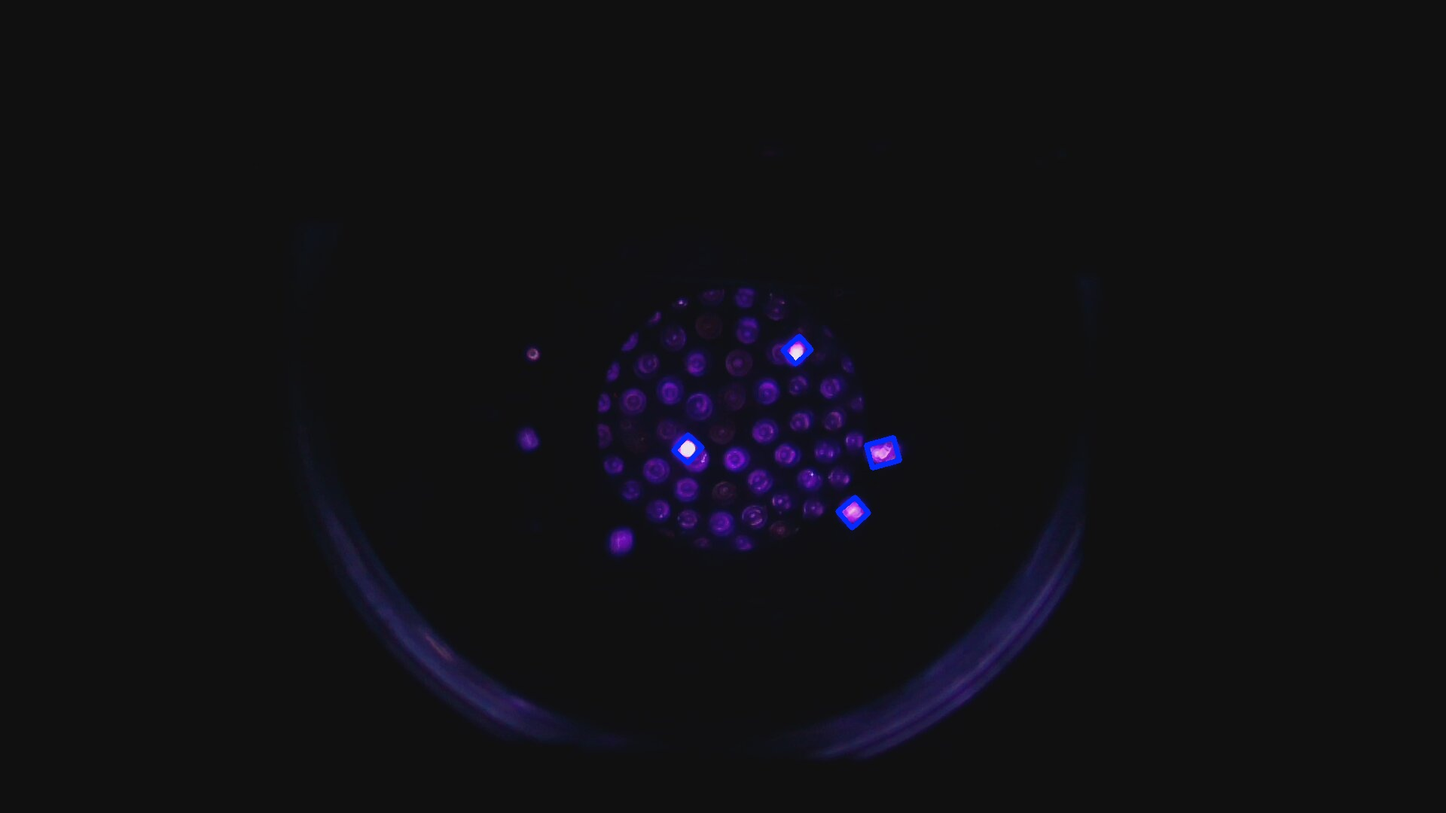plastic: (832, 491, 875, 534), (668, 429, 708, 469), (863, 433, 904, 472), (778, 330, 817, 370)
